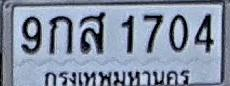0: (168, 13, 188, 52)
1: (121, 14, 134, 53)
4: (194, 13, 214, 52)
7: (143, 13, 163, 53)
9: (21, 15, 41, 54)
A01: (48, 15, 72, 54)
A40: (80, 12, 106, 54)
BKK: (38, 68, 192, 86)
